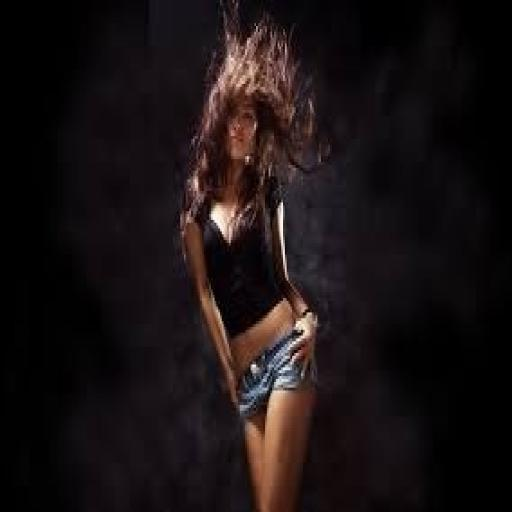dancing: (177, 9, 326, 509)
